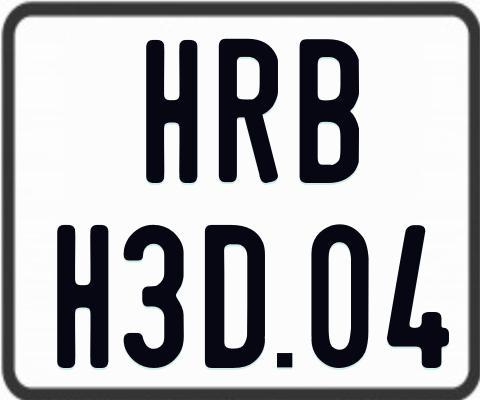0: (311, 221, 373, 367)
3: (122, 222, 188, 371)
4: (387, 225, 449, 368)
B: (298, 36, 357, 182)
D: (204, 223, 267, 368)
H: (55, 225, 111, 374), (143, 39, 200, 183)
R: (218, 36, 282, 180)
